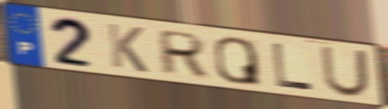2: (47, 15, 100, 73)
K: (104, 21, 150, 75)
L: (270, 40, 315, 92)
Q: (213, 35, 264, 88)
R: (158, 28, 209, 78)
U: (319, 45, 372, 99)
